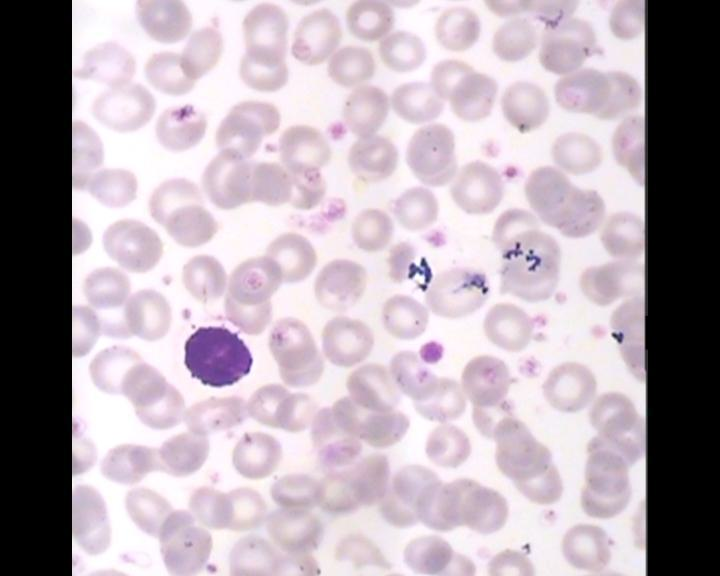baso: (177, 322, 258, 391)
